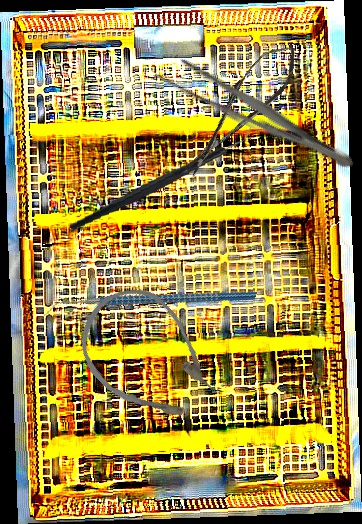Cannula: (60, 270, 237, 447)
Chopper: (44, 235, 257, 373), (60, 121, 261, 234)
Dressing Forceps: (151, 48, 362, 180)
Micro Scissor: (170, 34, 310, 184)
